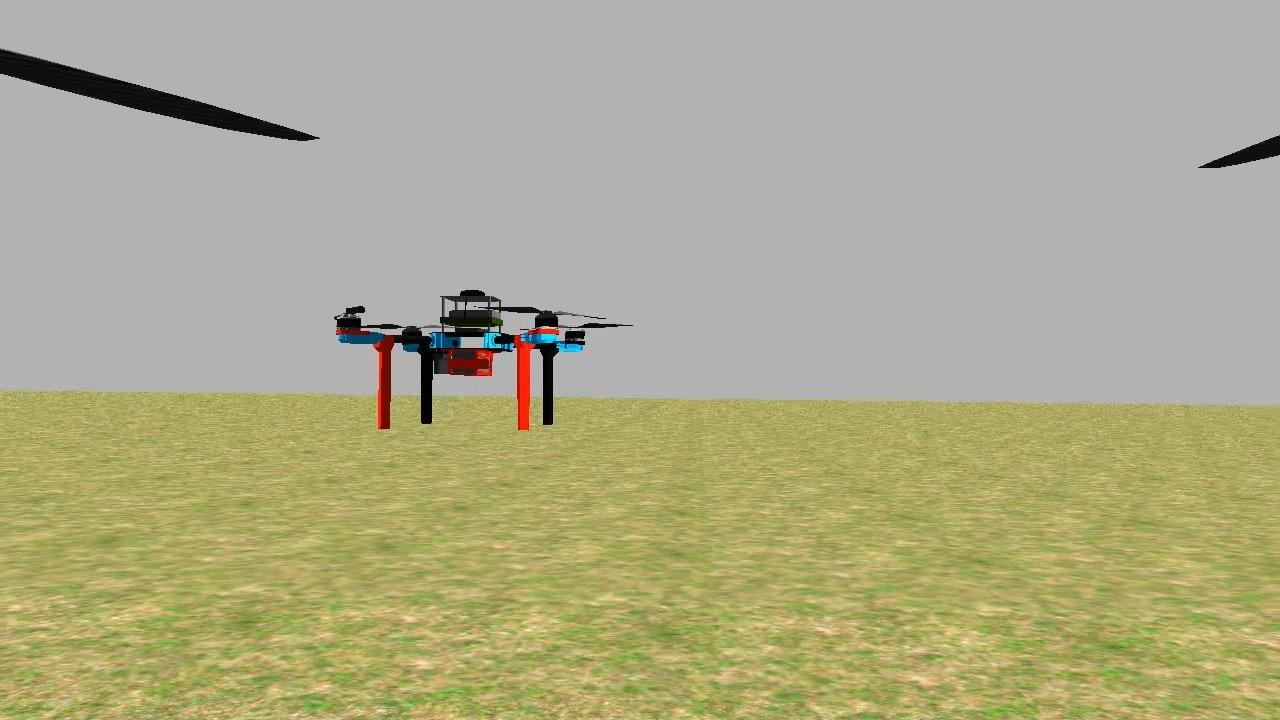UAV: (328, 281, 604, 439)
